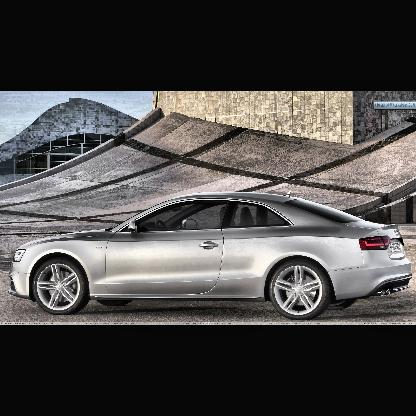Audi S5 Coupe 2012: (9, 192, 412, 323)
